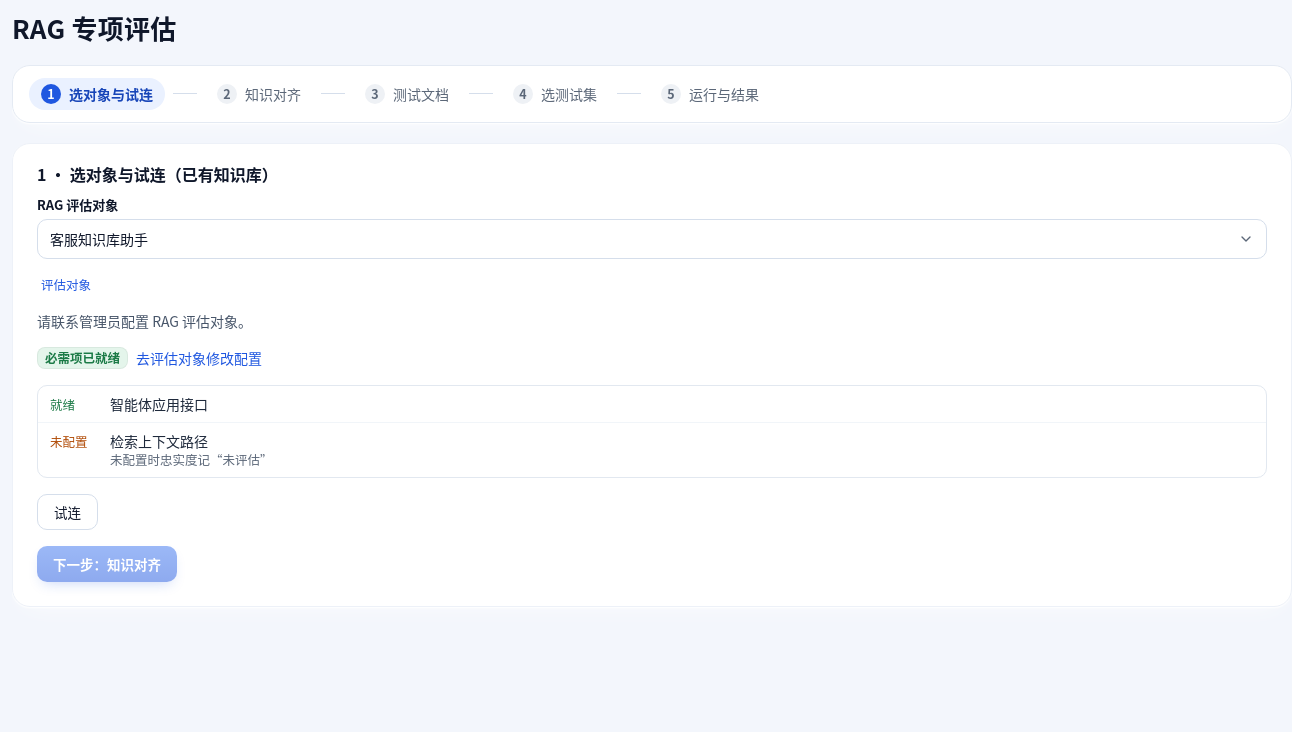
Scenario: RagEvalPage 步骤条 › 第 2 步知识库列表显示文件名、类型、切块数与状态
This screenshot has width=1292, height=732.
Click the button "3 测试文档" at (407, 94), box [353, 78, 461, 110]
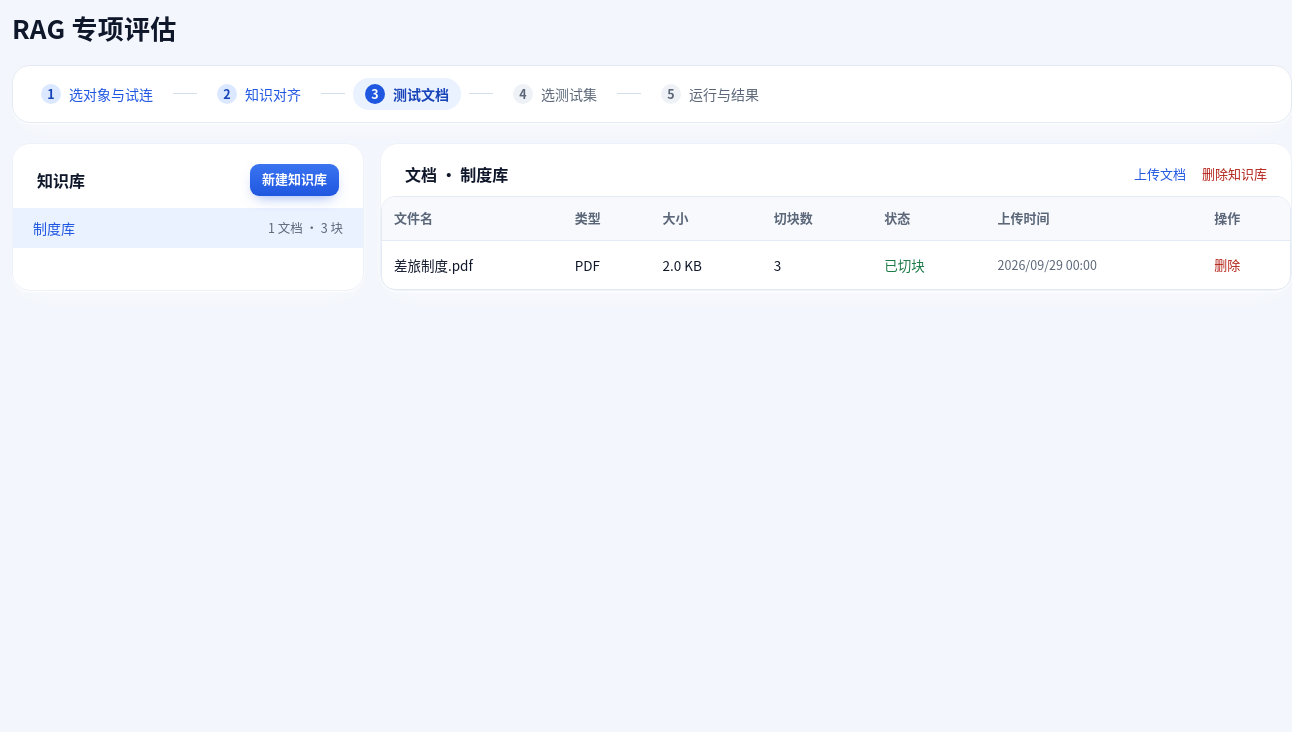
Now the text "PDF" is shown, box [563, 241, 650, 289]
Now the text "已切块" is shown, box [884, 255, 925, 275]
